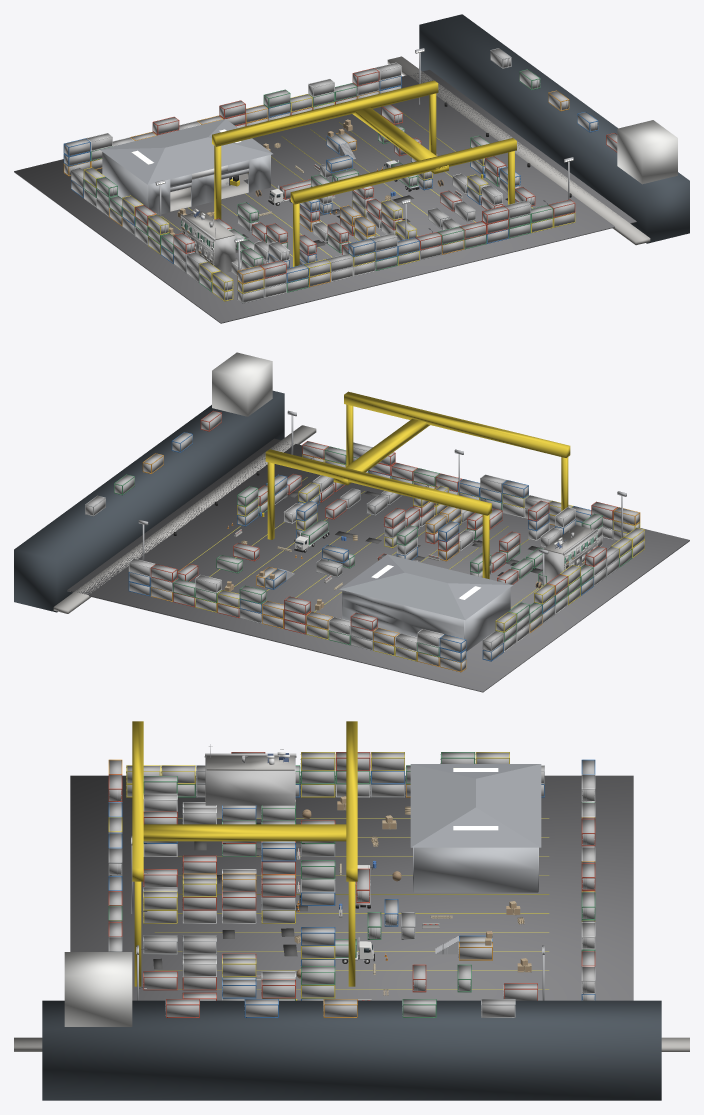
Rendered from liman.glb.
3 views of the same model, one above another, from view 1: azimuth 30°, elevation 25°; view 2: azimuth 150°, elevation 25°; view 3: azimuth 270°, elevation 25° (orthographic). The views are drawn at different scales.
Parts seen in each view (by area): view 1: ground_far_chunk_0_0, far_1_0, chunk_-2_1, chunk_0_0, far_1_-2, far_0_-2, far_-1_-2, chunk_0_-3, chunk_0_-2, far_0_1, far_-2_0, far_-2_-1 (+22 smaller); view 2: ground_far_chunk_0_0, far_1_0, chunk_-2_1, chunk_0_0, far_0_1, far_-1_1, far_1_-2, chunk_0_-3, far_-2_0, chunk_0_-2, far_-1_-2, chunk_-2_-2 (+22 smaller); view 3: ground_far_chunk_0_0, far_1_0, chunk_-2_1, chunk_0_-2, chunk_-3_-1, chunk_-1_1, far_1_-2, chunk_0_0, far_-2_0, chunk_-2_-2, chunk_-1_-1, chunk_1_-2 (+22 smaller).
Boxes of the visible parts, x1,y1,x2,y2 form: ground_far_chunk_0_0: [14, 70, 636, 322]; far_1_0: [387, 14, 689, 245]; chunk_-2_1: [100, 119, 272, 211]; chunk_0_0: [14, 80, 636, 323]; far_1_-2: [548, 120, 677, 227]; far_0_-2: [415, 201, 553, 260]; far_-1_-2: [281, 233, 419, 292]; chunk_0_-3: [290, 138, 516, 239]; chunk_0_-2: [352, 107, 460, 241]; far_0_1: [240, 68, 378, 125]; far_-2_0: [71, 167, 154, 244]; far_-2_-1: [147, 214, 220, 292]; ground_far_chunk_0_0: [68, 438, 689, 691]; far_1_0: [14, 390, 316, 613]; chunk_-2_1: [339, 554, 512, 638]; chunk_0_0: [67, 449, 689, 692]; far_0_1: [150, 564, 288, 629]; far_-1_1: [284, 597, 422, 661]; far_1_-2: [212, 352, 329, 462]; chunk_0_-3: [344, 391, 570, 495]; far_-2_0: [483, 574, 567, 661]; chunk_0_-2: [333, 419, 448, 529]; far_-1_-2: [460, 474, 596, 526]; chunk_-2_-2: [499, 501, 575, 568]; ground_far_chunk_0_0: [70, 775, 633, 1000]; far_1_0: [14, 999, 689, 1100]; chunk_-2_1: [410, 764, 541, 892]; chunk_0_-2: [143, 824, 346, 954]; chunk_-3_-1: [204, 752, 346, 820]; chunk_-1_1: [414, 826, 537, 906]; far_1_-2: [64, 952, 132, 1026]; chunk_0_0: [155, 721, 549, 954]; far_-2_0: [336, 752, 544, 796]; chunk_-2_-2: [143, 793, 255, 856]; chunk_-1_-1: [255, 842, 335, 911]; chunk_1_-2: [143, 953, 255, 990].
Size of what is drawn, in the model's own units: 128 by 27.25 by 120.
